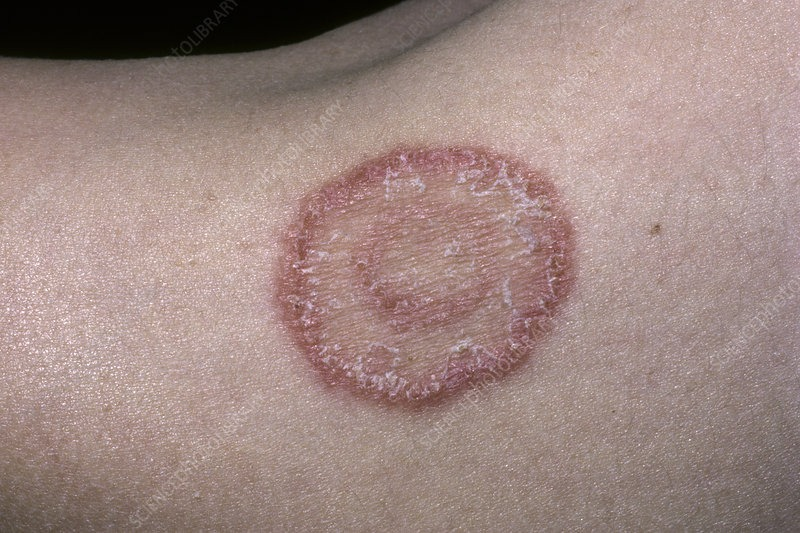Ringworm: (267, 139, 591, 411)
